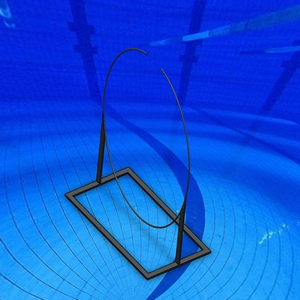circle: (64, 46, 213, 281)
